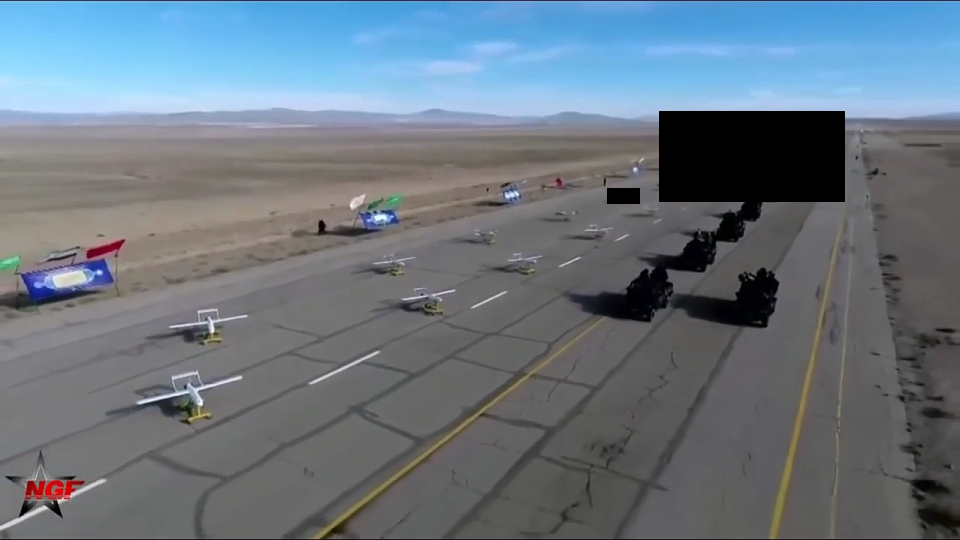military drone: (136, 369, 244, 407), (168, 305, 247, 333), (401, 286, 455, 302), (371, 252, 415, 267), (506, 251, 544, 264), (584, 222, 612, 234), (553, 208, 578, 218), (472, 227, 496, 236), (643, 204, 660, 213)
